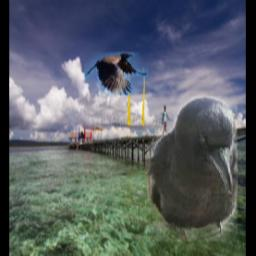Crow: (147, 98, 238, 243), (84, 53, 149, 96)
